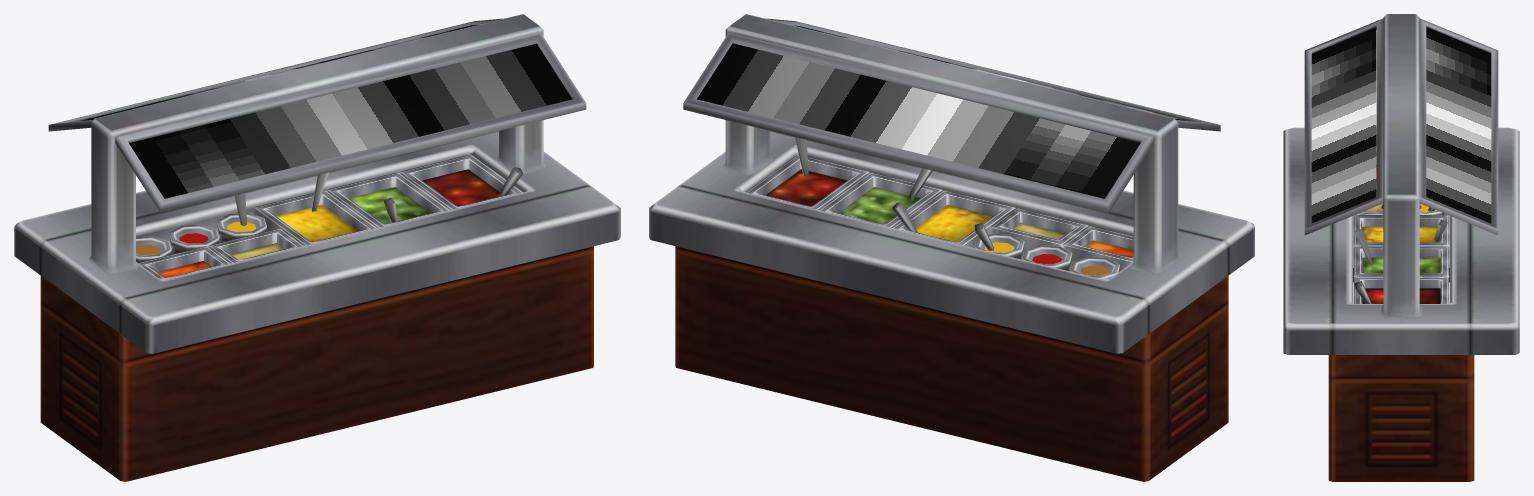
Rendered from int_frs_salad.dae.
3 renders of one model, left to right at view 1: azimuth 30°, elevation 25°; view 2: azimuth 150°, elevation 25°; view 3: azimuth 270°, elevation 25°, orthographic. The views are drawn at different scales.
Parts seen in each view (by area): view 1: int_frs_salad; view 2: int_frs_salad; view 3: int_frs_salad.
Part boxes in pixels (x1,y1,x2,y2): int_frs_salad: [14, 14, 620, 481]; int_frs_salad: [649, 14, 1254, 481]; int_frs_salad: [1283, 14, 1519, 481].
Size of the model in its own units: 64 by 41.52 by 32.
Materials: 2 (2 with a texture image).
